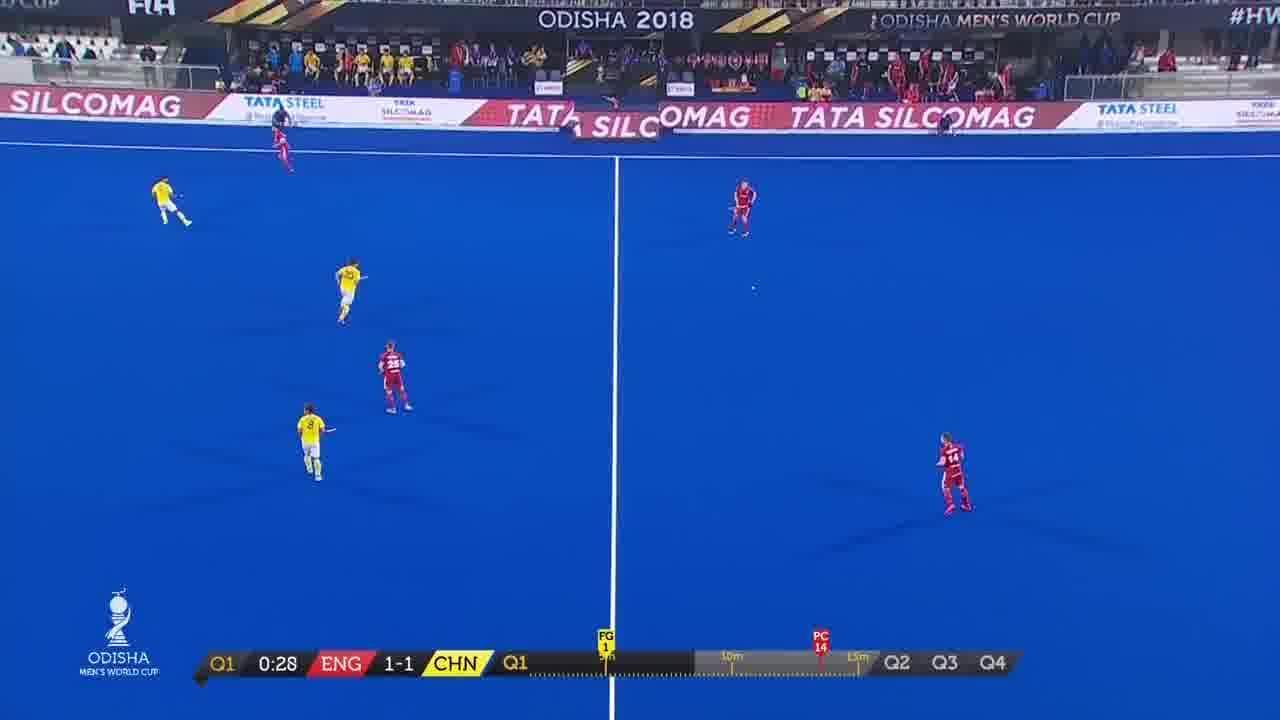ball: (749, 283, 764, 295)
